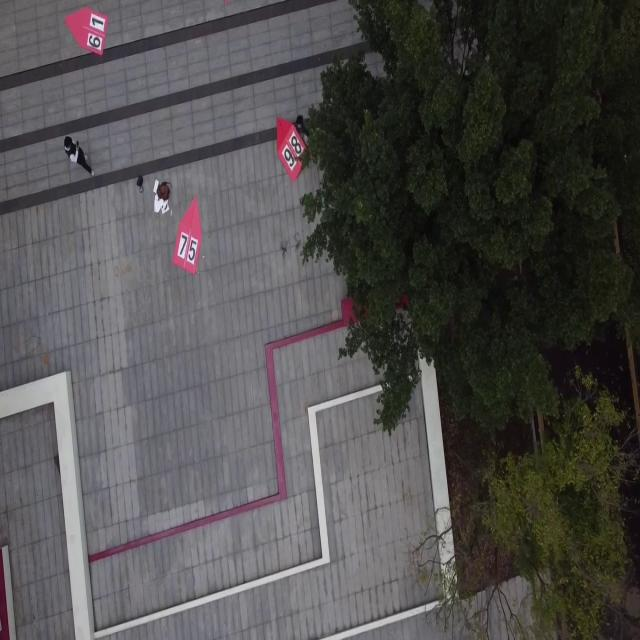-sign-: (173, 197, 203, 274), (65, 6, 109, 57), (276, 116, 306, 181)
